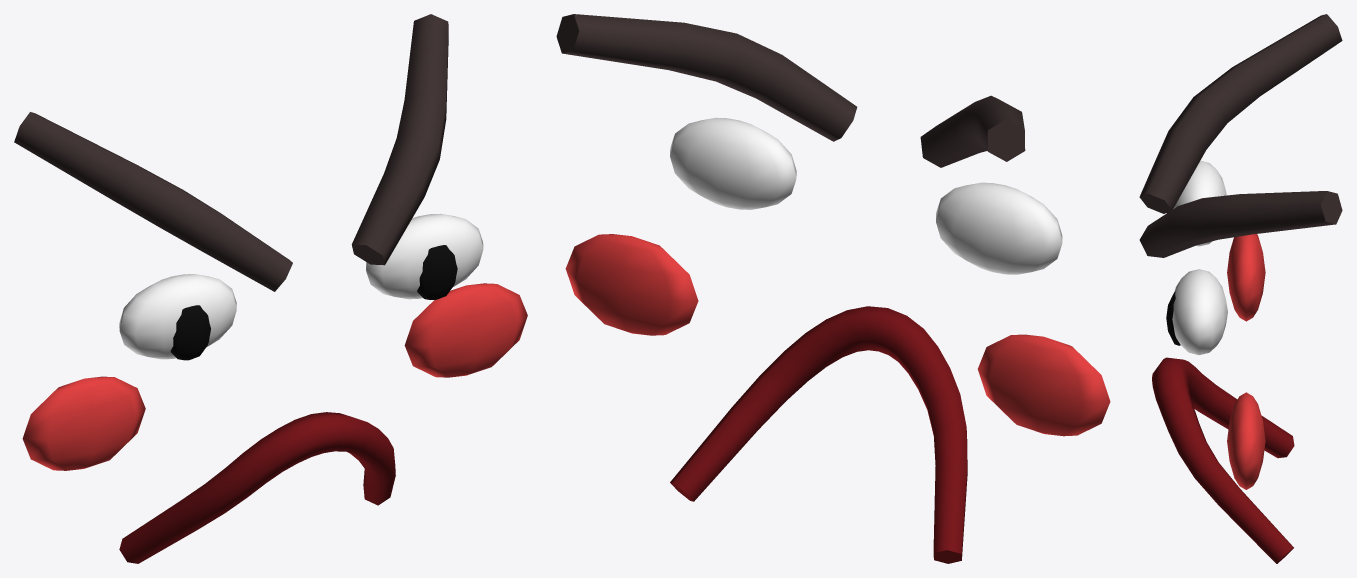
Rendered from gnome_face_3.obj.
The picture shows the model from 3 angles, left to right: view 1: azimuth 30°, elevation 25°; view 2: azimuth 150°, elevation 25°; view 3: azimuth 270°, elevation 25°; orthographic projection. The views are drawn at different scales.
Visible parts, largest first — view 1: part6, part8, part2, part7, part3, part4, part0, part1, part5; view 2: part8, part2, part3, part7, part4, part0, part6; view 3: part6, part8, part2, part0, part3, part7, part4, part1.
Part boxes in pixels (x1=…): part6: x1=14, y1=112, x2=292, y2=291; part8: x1=119, y1=412, x2=395, y2=563; part2: x1=351, y1=14, x2=448, y2=265; part7: x1=22, y1=376, x2=145, y2=470; part3: x1=404, y1=283, x2=527, y2=377; part4: x1=119, y1=274, x2=236, y2=359; part0: x1=366, y1=213, x2=483, y2=299; part1: x1=417, y1=245, x2=457, y2=299; part5: x1=170, y1=305, x2=210, y2=360; part8: x1=670, y1=306, x2=967, y2=563; part2: x1=556, y1=14, x2=857, y2=141; part3: x1=565, y1=234, x2=698, y2=335; part7: x1=977, y1=334, x2=1110, y2=436; part4: x1=936, y1=182, x2=1062, y2=274; part0: x1=670, y1=117, x2=796, y2=209; part6: x1=920, y1=95, x2=1025, y2=167; part6: x1=1139, y1=14, x2=1342, y2=213; part8: x1=1152, y1=357, x2=1294, y2=563; part2: x1=1139, y1=191, x2=1342, y2=257; part0: x1=1172, y1=269, x2=1227, y2=354; part3: x1=1227, y1=392, x2=1265, y2=489; part7: x1=1227, y1=234, x2=1265, y2=321; part4: x1=1173, y1=161, x2=1226, y2=246; part1: x1=1166, y1=291, x2=1180, y2=345.
Bounding box in the file's own units: 0.164 × 0.1402 × 0.0632.
